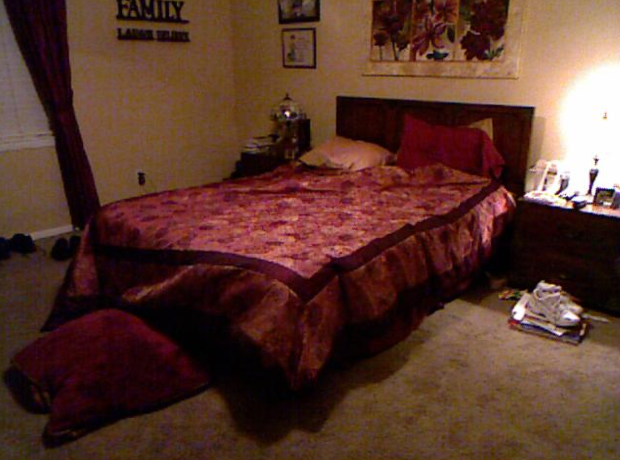cabinet: (517, 195, 620, 310)
window: (0, 7, 54, 133)
